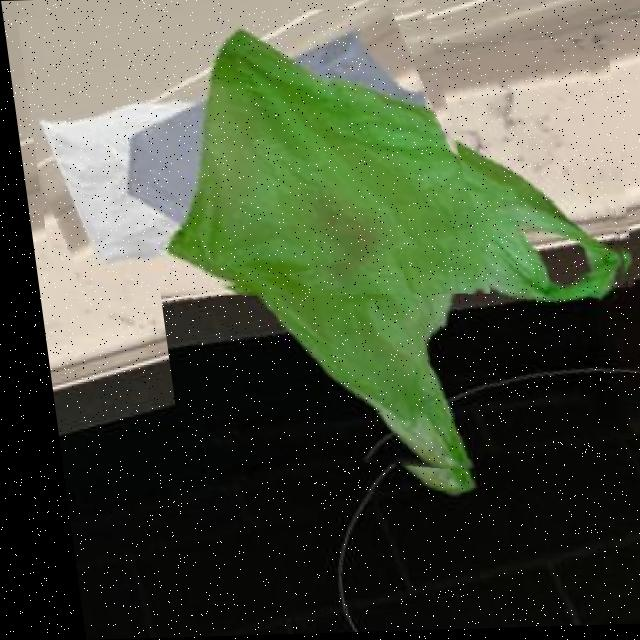plasticcover: (126, 41, 640, 500), (16, 8, 481, 306)
